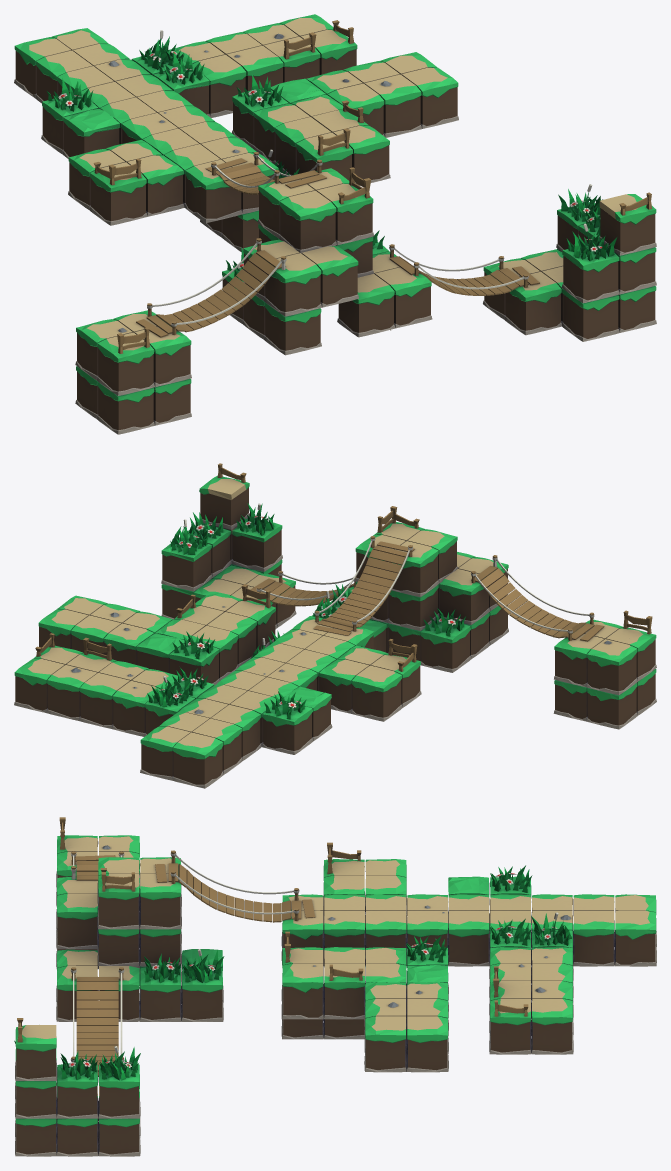
The model's file is Crime_Map_03.FBX.
The picture shows the model from 3 angles, top to bottom: view 1: azimuth 30°, elevation 25°; view 2: azimuth 150°, elevation 25°; view 3: azimuth 270°, elevation 25°; orthographic projection. The views are drawn at different scales.
Parts seen in each view (by area): view 1: Wall_01, Plant_01, Ground_01, Wood_01, Wall_Ground_01, Plant_02, Line_01; view 2: Wall_01, Plant_01, Ground_01, Wood_01, Plant_02, Wall_Ground_01, Line_01; view 3: Wall_01, Plant_01, Ground_01, Wood_01, Wall_Ground_01, Plant_02, Line_01.
Boxes of the visible parts, left/top/right/bottom form: Wall_01: left=15, top=49, right=655, bottom=430; Plant_01: left=14, top=14, right=656, bottom=402; Ground_01: left=29, top=18, right=637, bottom=350; Wood_01: left=93, top=20, right=652, bottom=353; Wall_Ground_01: left=14, top=79, right=656, bottom=434; Plant_02: left=47, top=36, right=617, bottom=280; Line_01: left=58, top=30, right=601, bottom=326; Wall_01: left=15, top=487, right=655, bottom=784; Plant_01: left=14, top=476, right=656, bottom=759; Ground_01: left=28, top=479, right=643, bottom=747; Wood_01: left=35, top=463, right=652, bottom=671; Plant_02: left=147, top=503, right=465, bottom=719; Wall_Ground_01: left=14, top=513, right=656, bottom=788; Line_01: left=159, top=503, right=594, bottom=708; Wall_01: left=16, top=875, right=655, bottom=1154; Plant_01: left=15, top=835, right=656, bottom=1127; Ground_01: left=22, top=836, right=649, bottom=1095; Wood_01: left=17, top=817, right=528, bottom=1076; Wall_Ground_01: left=15, top=871, right=656, bottom=1156; Plant_02: left=14, top=865, right=571, bottom=1080; Line_01: left=39, top=853, right=558, bottom=1067.
Size of the model in its own units: 44.03 by 13.87 by 48.46.
